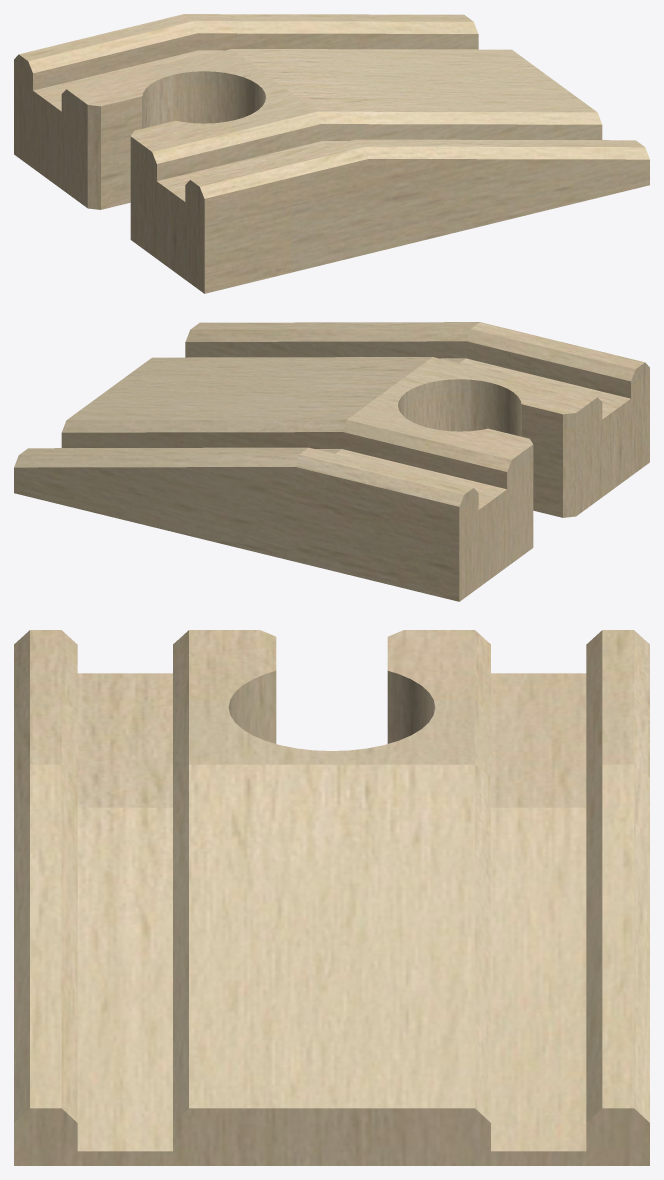
3 views of the same model, one above another, from view 1: azimuth 30°, elevation 25°; view 2: azimuth 150°, elevation 25°; view 3: azimuth 270°, elevation 25° (orthographic). The views are drawn at different scales.
Visible parts, largest first — view 1: SketchUp; view 2: SketchUp; view 3: SketchUp.
Part boxes in pixels (box(x1,y1,x2,y2)): SketchUp: box(14, 14, 649, 293); SketchUp: box(14, 322, 649, 601); SketchUp: box(14, 630, 649, 1165).
Size of the model in its own units: 2.13 by 1.57 by 0.4724.
